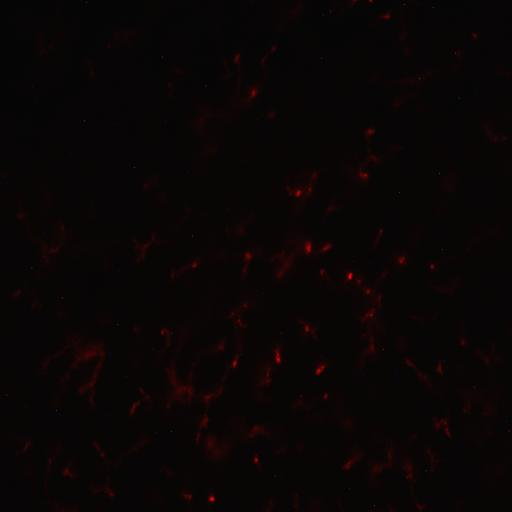microglia: (41, 333, 107, 408), (11, 197, 68, 268), (383, 61, 454, 112), (230, 45, 277, 113), (190, 106, 226, 158), (284, 165, 318, 215), (162, 362, 196, 410), (368, 439, 398, 487), (401, 457, 427, 512), (108, 432, 151, 462), (40, 440, 62, 495), (228, 416, 274, 442), (102, 27, 140, 58), (478, 389, 500, 440), (171, 318, 192, 366), (222, 338, 245, 380), (404, 358, 433, 391), (332, 397, 356, 434), (270, 245, 295, 280), (131, 234, 160, 264), (237, 246, 262, 280), (10, 288, 44, 312), (356, 334, 378, 371), (363, 124, 381, 169), (170, 256, 202, 280), (90, 476, 117, 504), (196, 335, 226, 360), (290, 231, 317, 258), (129, 386, 153, 416), (228, 300, 252, 330), (204, 434, 229, 460), (233, 208, 257, 235), (201, 383, 223, 412), (344, 164, 370, 188), (140, 170, 165, 194), (155, 327, 172, 361), (436, 274, 460, 298), (482, 122, 508, 144), (93, 441, 110, 471), (432, 415, 452, 439), (232, 49, 243, 91), (458, 386, 473, 416), (297, 318, 317, 340), (291, 396, 312, 416), (192, 418, 208, 444), (425, 446, 440, 472), (176, 202, 191, 228), (47, 501, 78, 512), (475, 345, 491, 366), (370, 227, 384, 249), (318, 239, 335, 257), (369, 290, 383, 311), (261, 364, 274, 386), (324, 198, 340, 215), (318, 266, 332, 284), (391, 251, 409, 265), (363, 306, 377, 322), (292, 492, 303, 512), (435, 356, 446, 376), (261, 497, 275, 512), (180, 488, 193, 504), (272, 346, 282, 366), (160, 466, 174, 479), (458, 334, 470, 348), (376, 268, 389, 280), (314, 363, 326, 375), (130, 322, 142, 334), (22, 439, 32, 453), (253, 454, 262, 468), (380, 10, 391, 21), (341, 460, 353, 470), (355, 273, 363, 288), (207, 492, 216, 505), (428, 260, 437, 271), (63, 466, 71, 476), (234, 52, 240, 64), (244, 252, 251, 260), (347, 272, 353, 280), (471, 32, 477, 39), (365, 289, 370, 294), (324, 393, 328, 398)
